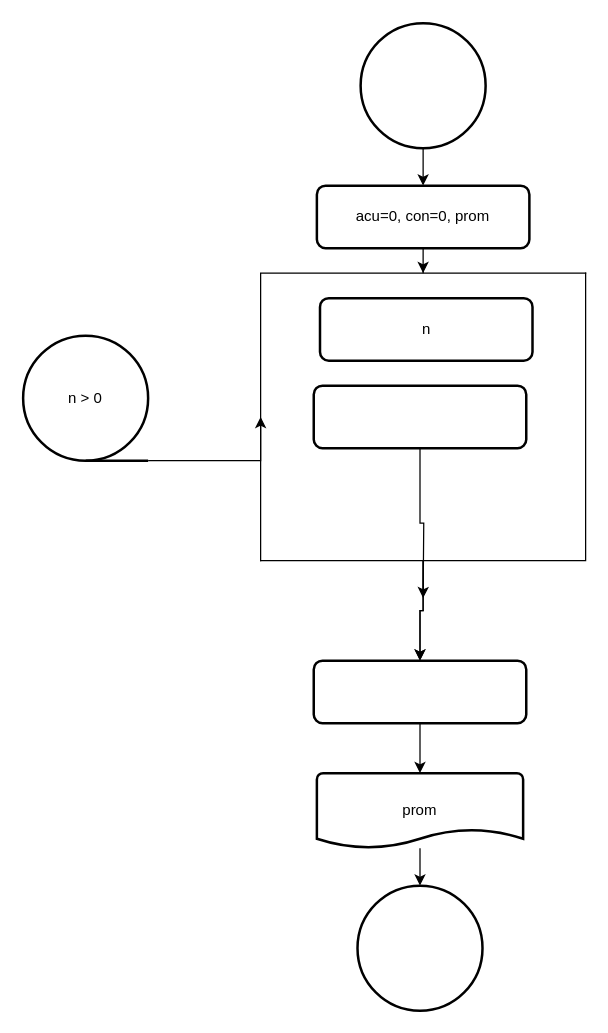
The diagram is 608 pixels wide and 1033 high, and some of its shapes have lost their labels. Here are the shapes that lost their labels. From the top down, the box of each, then its label:
(312, 384, 527, 449): acu += n con++
(312, 659, 527, 724): prom = acu/con
